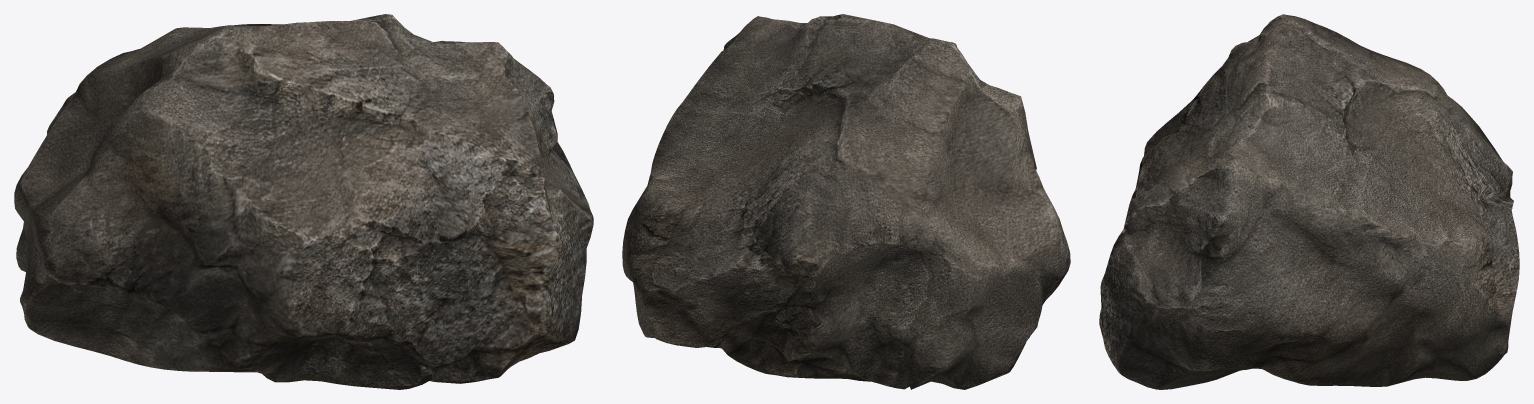
The model's file is rock 3d model (3).glb.
3 views of the same model, side by side, from view 1: azimuth 30°, elevation 25°; view 2: azimuth 150°, elevation 25°; view 3: azimuth 270°, elevation 25° (orthographic). The views are drawn at different scales.
Visible parts, largest first — view 1: tripo_node_5a871baf-aa58-4e6f-b4f7-346cca3109f3; view 2: tripo_node_5a871baf-aa58-4e6f-b4f7-346cca3109f3; view 3: tripo_node_5a871baf-aa58-4e6f-b4f7-346cca3109f3.
Part boxes in pixels (x1,y1,x2,y2): tripo_node_5a871baf-aa58-4e6f-b4f7-346cca3109f3: [14, 14, 593, 389]; tripo_node_5a871baf-aa58-4e6f-b4f7-346cca3109f3: [622, 14, 1070, 389]; tripo_node_5a871baf-aa58-4e6f-b4f7-346cca3109f3: [1099, 14, 1519, 389].
Size of the model in its own units: 0.9995 by 0.6606 by 0.9097.
1 material, 1 textured.
